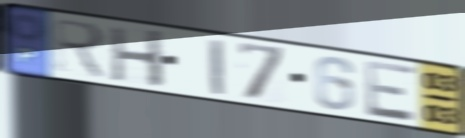6: (312, 55, 356, 112)
7: (236, 40, 287, 103)
E: (362, 58, 419, 124)
H: (107, 24, 167, 90)
I: (206, 36, 227, 99)
R: (50, 15, 110, 82)
